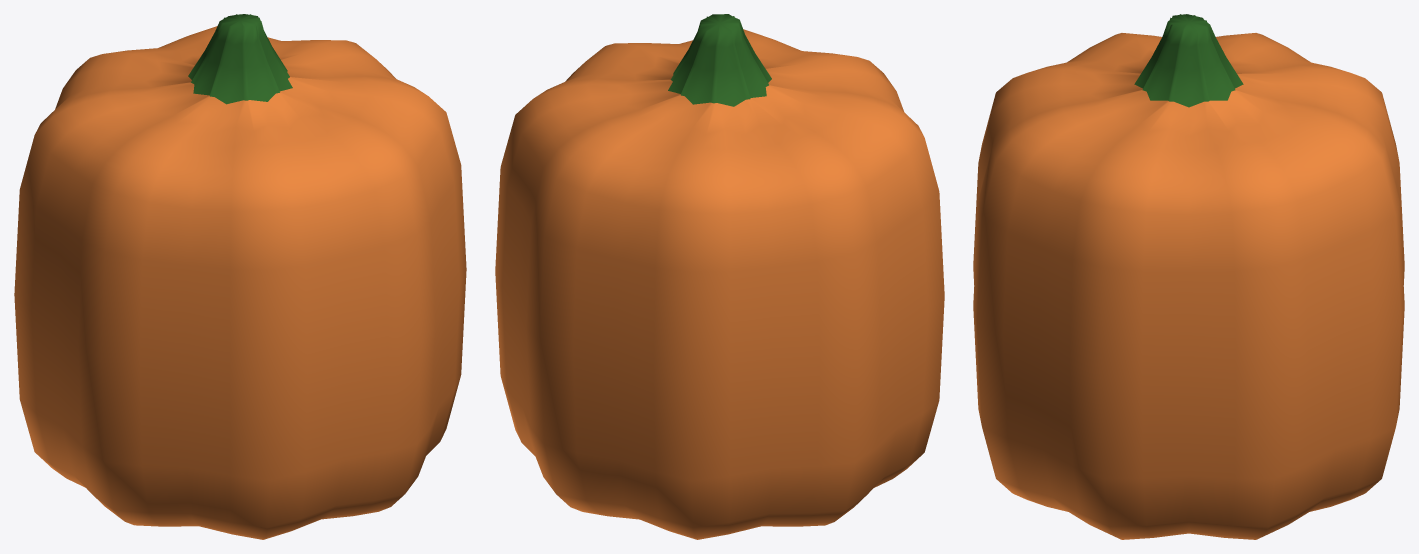
Rendered from pumpkin4.fbx.
The picture shows the model from 3 angles, left to right: view 1: azimuth 30°, elevation 25°; view 2: azimuth 150°, elevation 25°; view 3: azimuth 270°, elevation 25°; orthographic projection.
Visible parts, largest first — view 1: Cylinder.005; view 2: Cylinder.005; view 3: Cylinder.005.
Part boxes in pixels (x1,y1,x2,y2): Cylinder.005: (14,14,466,539); Cylinder.005: (495,14,944,539); Cylinder.005: (973,14,1404,539).
Size of the model in its own units: 142 by 167 by 142.
